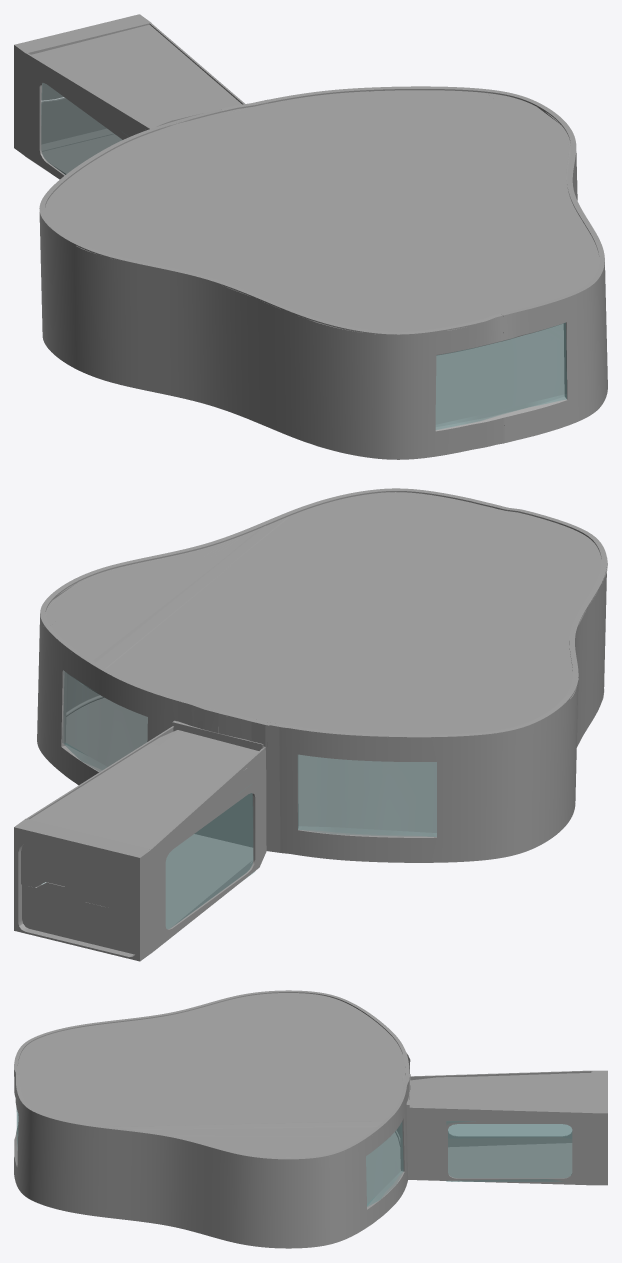
The model's file is RemadeRooms.fbx.
The picture shows the model from 3 angles, top to bottom: view 1: azimuth 30°, elevation 25°; view 2: azimuth 150°, elevation 25°; view 3: azimuth 270°, elevation 25°; orthographic projection. The views are drawn at different scales.
Visible parts, largest first — view 1: Roof (×2), WallsMain, Roof1, WindowFront, Floor, OutsideFramework, WindowRight, BackBotDoor; view 2: Roof (×2), WallsMain, Floor, OutsideFramework, Roof1, WindowRightback, WindowRight, WindowRightLeft, BackBotDoor, BackTopDoor, FrontTopDoor1, FrontTopDoor2; view 3: Roof (×2), WallsMain, OutsideFramework, WindowLeft, Roof1, WindowRightLeft, Floor, WindowRight.
Boxes of the visible parts, box(x1,y1,x2,y2) form: Roof (×2): box(39, 86, 604, 334); WallsMain: box(39, 89, 607, 459); Roof1: box(31, 24, 241, 128); WindowFront: box(436, 323, 566, 429); Floor: box(231, 324, 564, 458); OutsideFramework: box(14, 14, 244, 179); WindowRight: box(41, 83, 121, 174); BackBotDoor: box(41, 97, 106, 144); Roof (×2): box(40, 488, 607, 929); WallsMain: box(37, 491, 606, 862); Floor: box(48, 689, 604, 835); OutsideFramework: box(14, 726, 266, 961); Roof1: box(30, 730, 258, 848); WindowRightback: box(298, 755, 436, 836); WindowRight: box(166, 793, 254, 929); WindowRightLeft: box(62, 670, 147, 771); BackBotDoor: box(22, 882, 135, 954); BackTopDoor: box(21, 844, 135, 910); FrontTopDoor1: box(194, 793, 253, 847); FrontTopDoor2: box(172, 720, 264, 750); Roof (×2): box(14, 990, 572, 1181); WallsMain: box(14, 992, 410, 1248); OutsideFramework: box(407, 1070, 607, 1185); WindowLeft: box(446, 1121, 571, 1181); Roof1: box(409, 1073, 591, 1112); WindowRightLeft: box(366, 1122, 403, 1206); Floor: box(351, 1132, 400, 1236); WindowRight: box(448, 1124, 571, 1136).
Size of the model in its own units: 0.4888 by 0.1197 by 0.7222.
